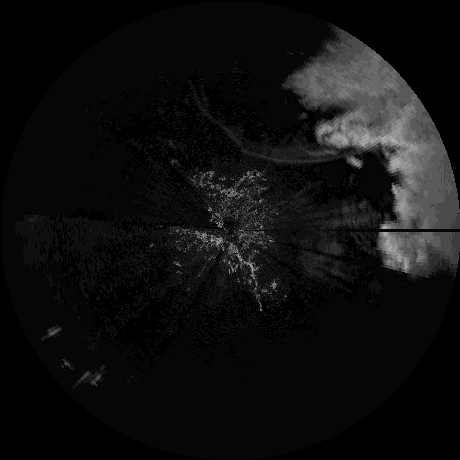frontgust: (218, 125, 353, 165)
